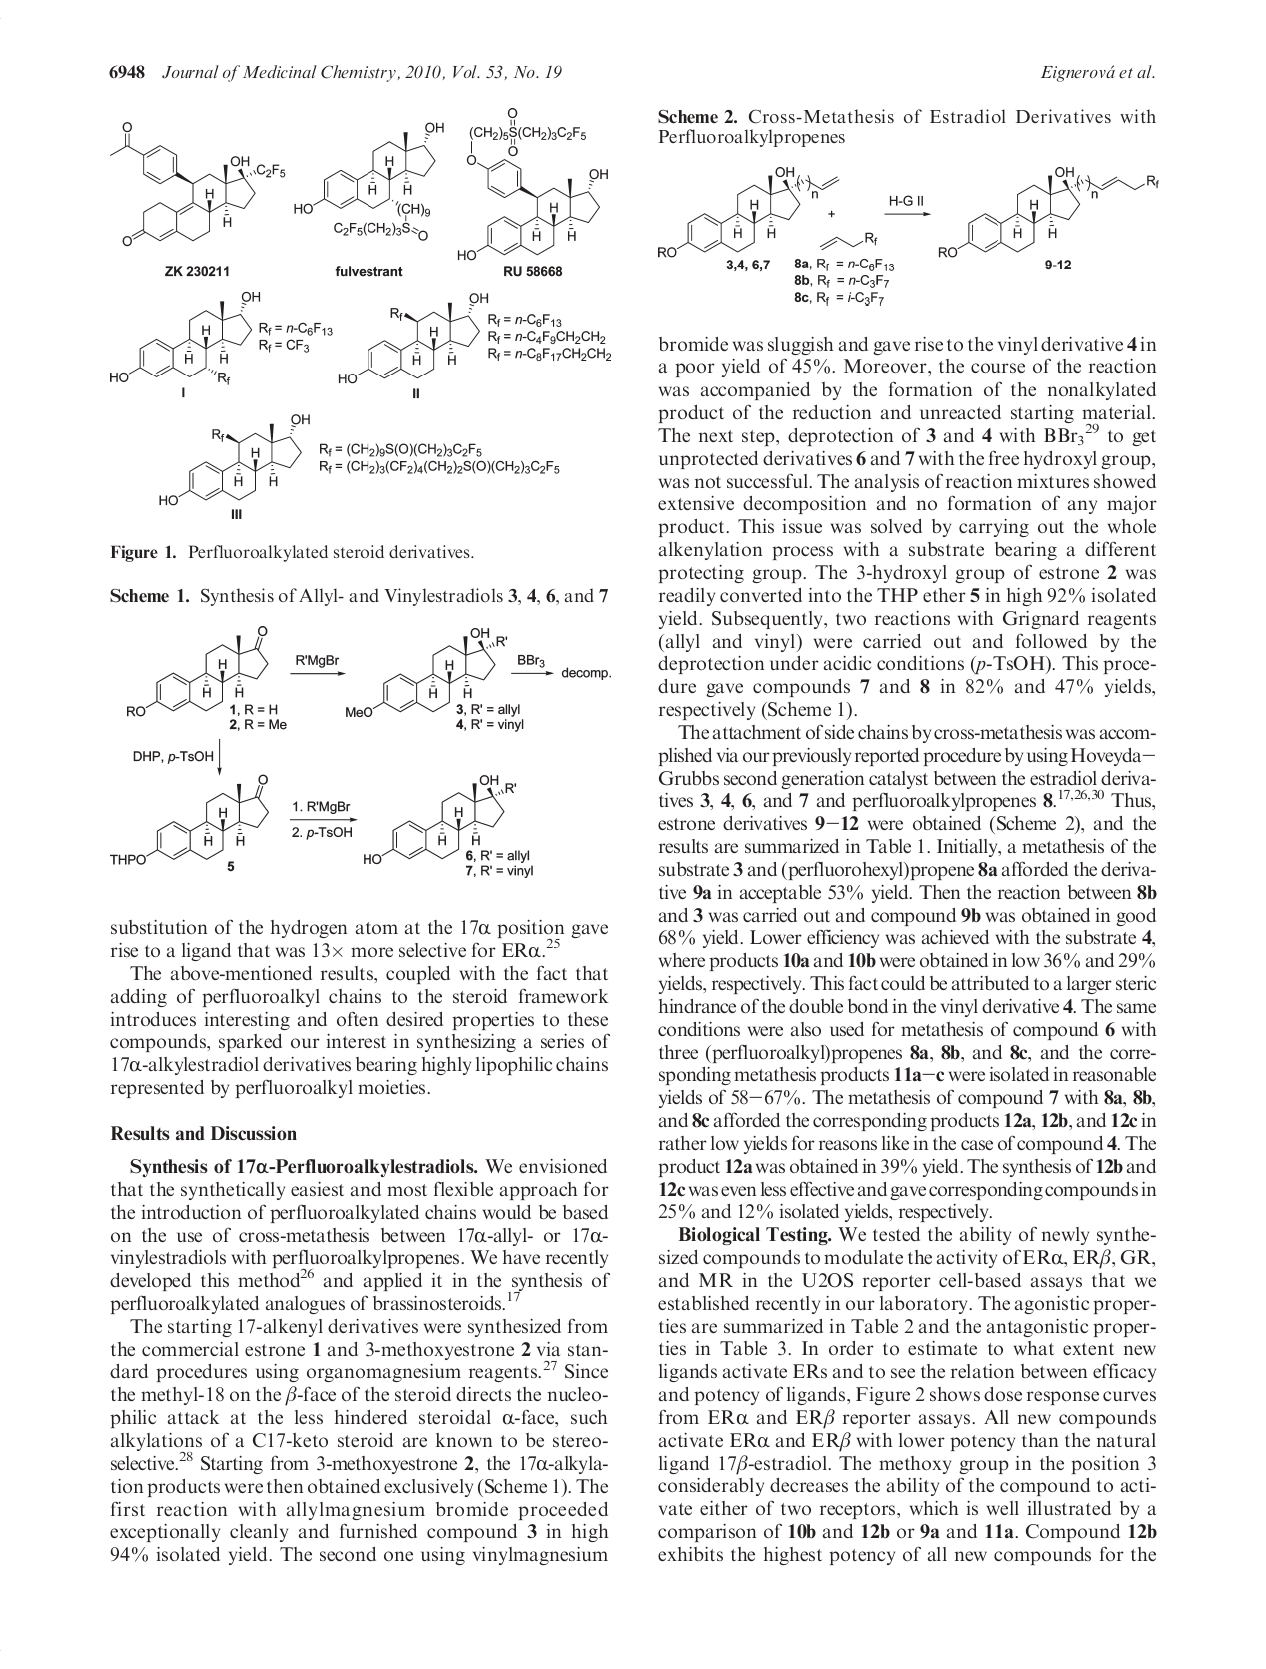exist_molecular: (456, 106, 610, 263), (108, 121, 286, 247), (936, 164, 1162, 259), (293, 120, 445, 242), (656, 165, 842, 261), (342, 626, 511, 719), (109, 771, 270, 868), (106, 289, 263, 386), (156, 411, 313, 508), (336, 289, 489, 386), (360, 773, 519, 866), (122, 622, 270, 719)
